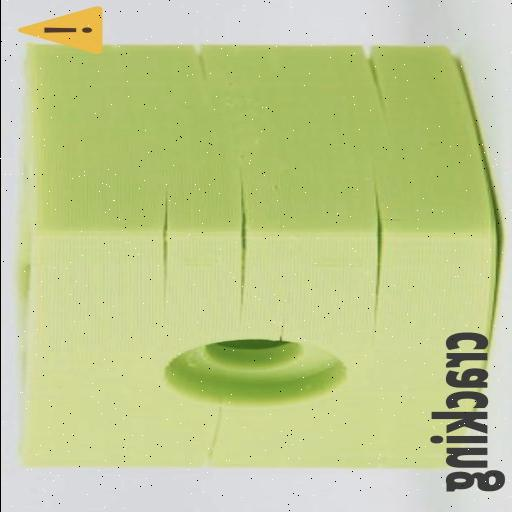cracks: (349, 164, 408, 340), (216, 170, 266, 325), (340, 26, 408, 134), (141, 174, 188, 318), (186, 400, 248, 484), (171, 28, 233, 102), (262, 303, 298, 353)
